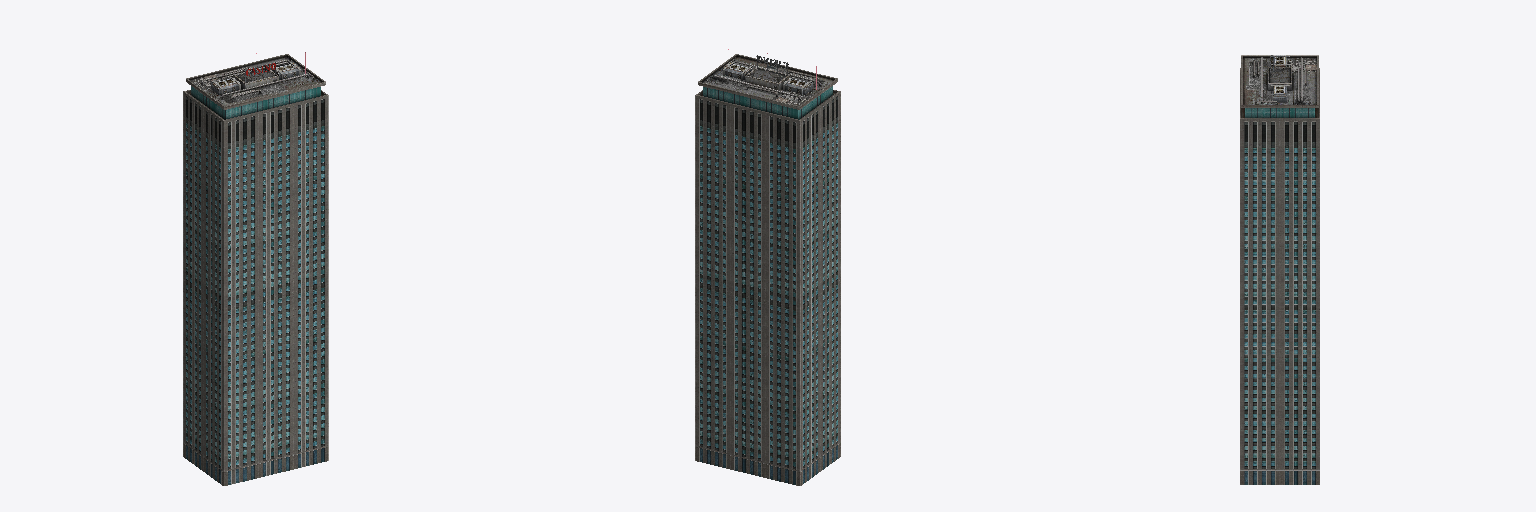
The picture shows the model from 3 angles: view 1: azimuth 30°, elevation 25°; view 2: azimuth 150°, elevation 25°; view 3: azimuth 270°, elevation 25°; orthographic projection.
Visible parts, largest first — view 1: Object_1; view 2: Object_1; view 3: Object_1.
Boxes of the visible parts, x1=… form: Object_1: x1=183, y1=54, x2=328, y2=485; Object_1: x1=695, y1=54, x2=840, y2=485; Object_1: x1=1240, y1=55, x2=1319, y2=484.
Size of the model in its own units: 55.04 by 204 by 36.7.
Materials: 3 (2 with a texture image).